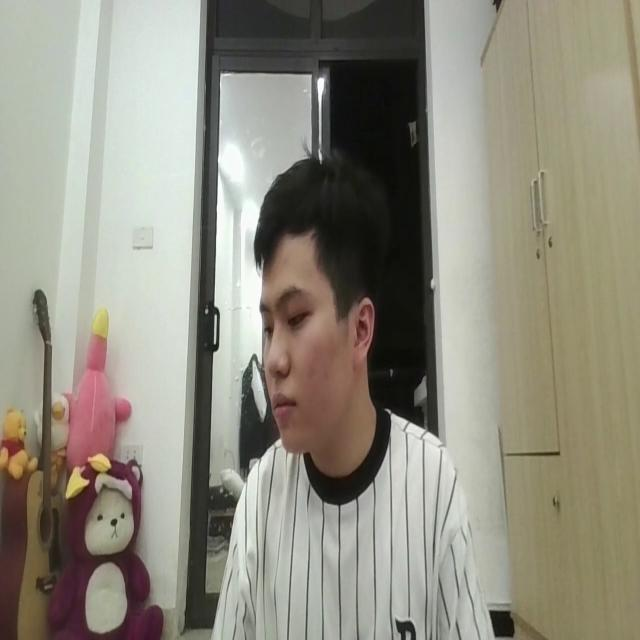student: (211, 152, 492, 640)
